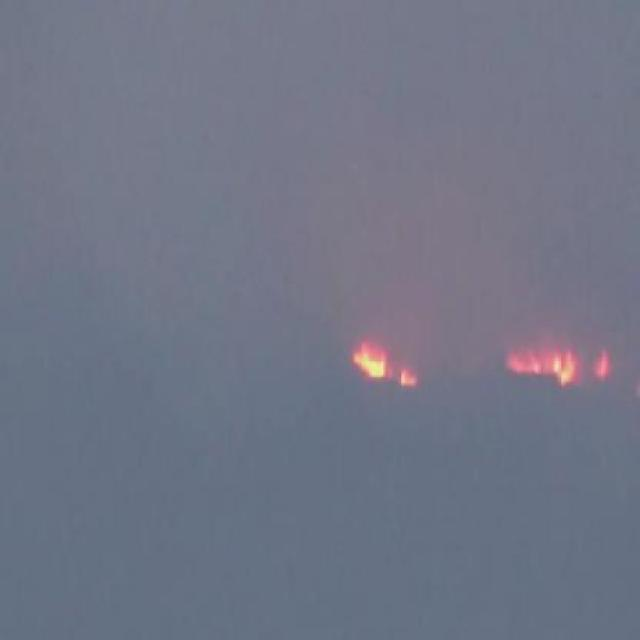Fire: (501, 343, 577, 391), (353, 344, 418, 390), (592, 346, 610, 379)
